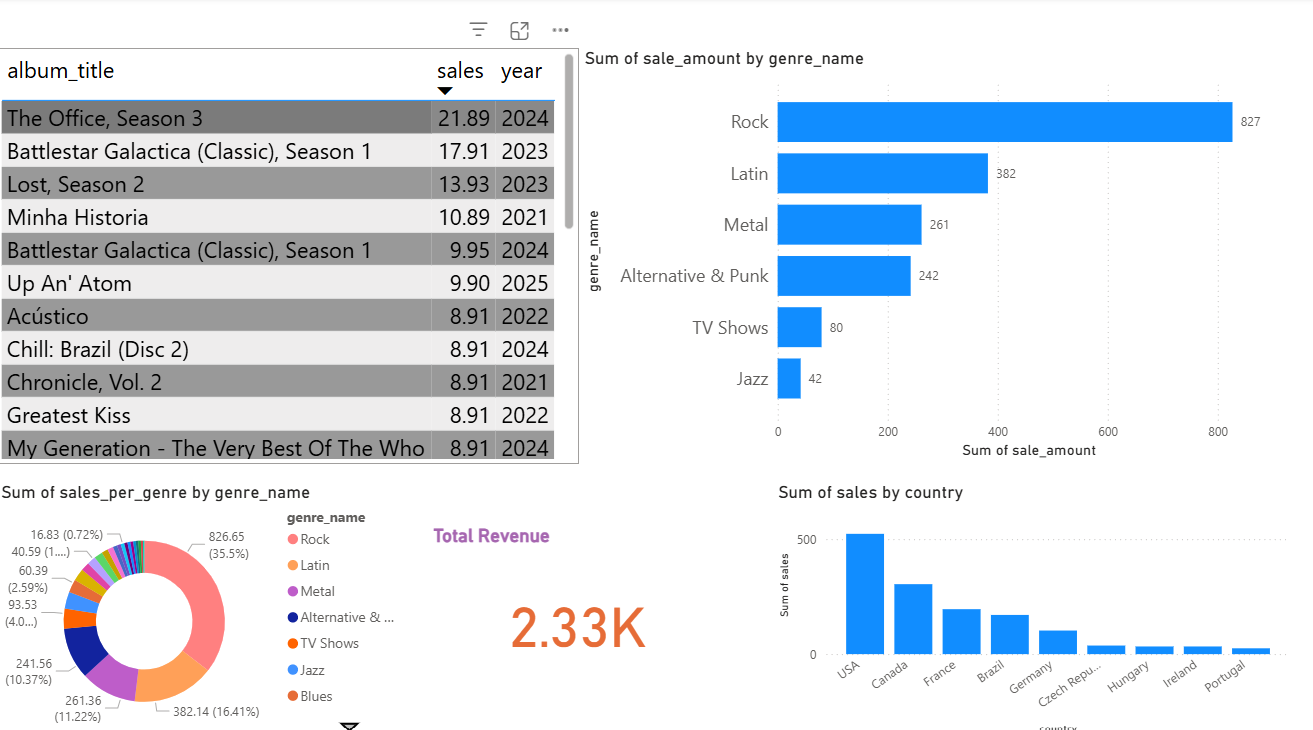

The page's visual inventory and layout, read from the dashboard file:
{"tool":"powerbi","page":{"name":"Page 1","canvas":[1280,720],"ordinal":0},"visuals":[{"type":"tableEx","fields":{"Values":["q7.album_title","q7.sales","q7.year"]},"box":[0,49.7,565.5,402.8],"z":0},{"type":"barChart","fields":{"Category":["q6.genre_name","q6.year"],"Y":["Sum(q6.sale_amount)"]},"box":[565.5,49.7,695.2,402.8],"z":1000},{"type":"donutChart","fields":{"Category":["q5.genre_name"],"Y":["Sum(q5.sales_per_genre)"]},"box":[0,469.9,407.1,251.1],"z":2000},{"type":"clusteredColumnChart","fields":{"Category":["q3.country"],"Y":["Sum(q3.sales)"]},"box":[753.4,469.9,506.3,251.1],"z":3000},{"type":"card","title":"Total Revenue","fields":{"Values":["Sum(public invoice.total)"]},"box":[419.2,512.4,289.6,164.1],"z":3002}]}

Visuals, with their boxes on the page's 1280x720 design canvas (x1, y1, x2, y2). These are canvas units, not pixel positions in the 1313x730 screenshot, which may show the page scaled, cropped or inside an application window:
tableEx - q7.album_title x q7.sales: pyautogui.locateOnScreen(0, 50, 566, 452)
barChart - q6.genre_name x q6.year: pyautogui.locateOnScreen(566, 50, 1261, 452)
donutChart - q5.genre_name x Sum(q5.sales_per_genre): pyautogui.locateOnScreen(0, 470, 407, 721)
clusteredColumnChart - q3.country x Sum(q3.sales): pyautogui.locateOnScreen(753, 470, 1260, 721)
"Total Revenue" card: pyautogui.locateOnScreen(419, 512, 709, 676)
